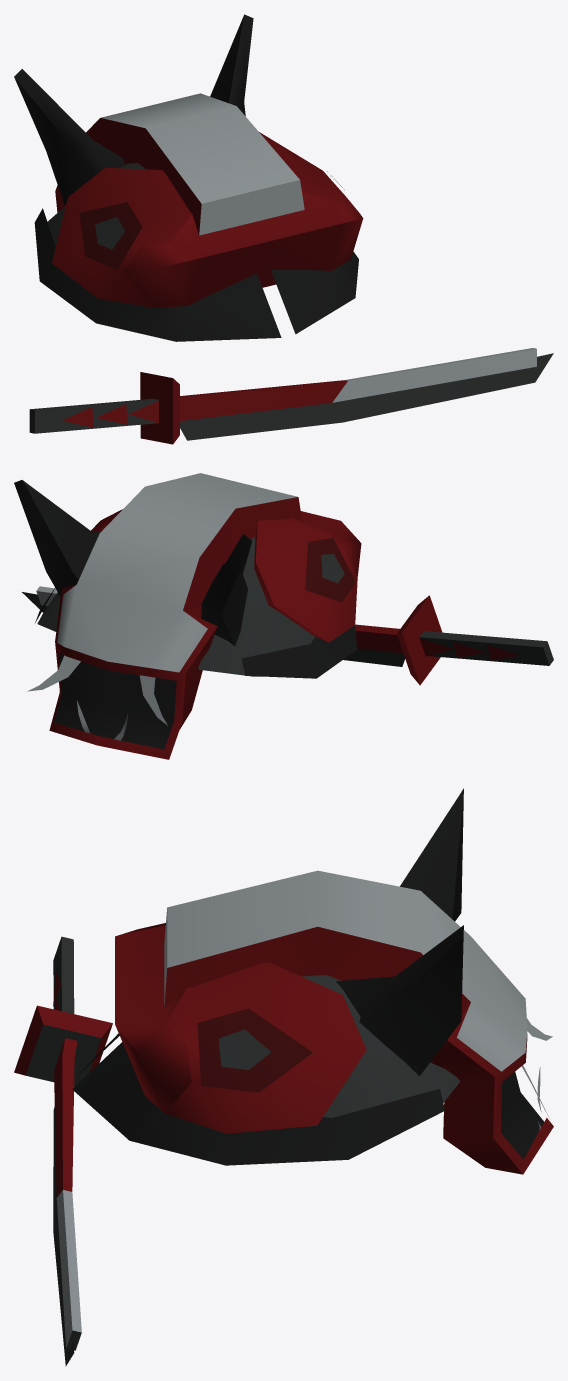
The model's file is hat_oni.glb.
The picture shows the model from 3 angles, top to bottom: view 1: azimuth 30°, elevation 25°; view 2: azimuth 150°, elevation 25°; view 3: azimuth 270°, elevation 25°; orthographic projection. The views are drawn at different scales.
Parts seen in each view (by area): view 1: hat_oni; view 2: hat_oni; view 3: hat_oni.
Part boxes in pixels (<box>): hat_oni: <box>14,14,553,444</box>; hat_oni: <box>14,473,553,759</box>; hat_oni: <box>14,788,553,1366</box>.
Bounding box in the file's own units: 0.8075 × 0.4171 × 0.5673.
